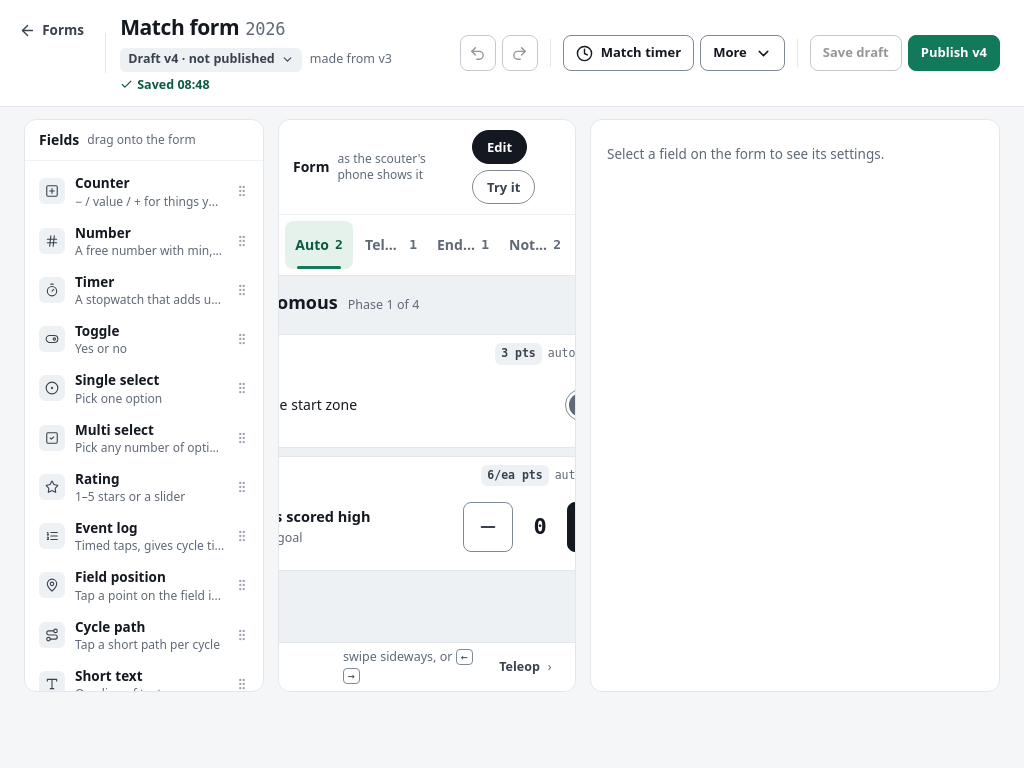
Test: Match timer (task 1.32, SPEC-FINAL 8.4) › adds only a phase not yet used, and holds Add once all four are used
Check: the element "Form" is shown, box [278,119,576,692]
Step 1. Click the button "Match timer" → x=628, y=53, box [563,35,694,71]
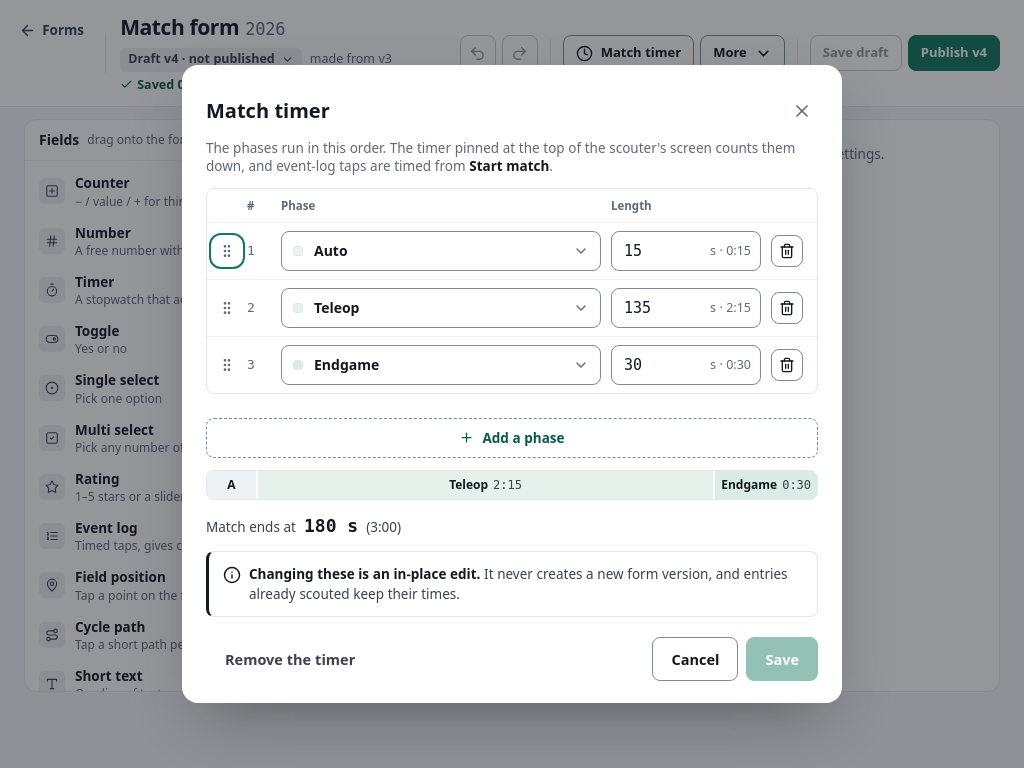
Step 2. Click the button "Add a phase" → x=512, y=438, box [206,418,818,458]
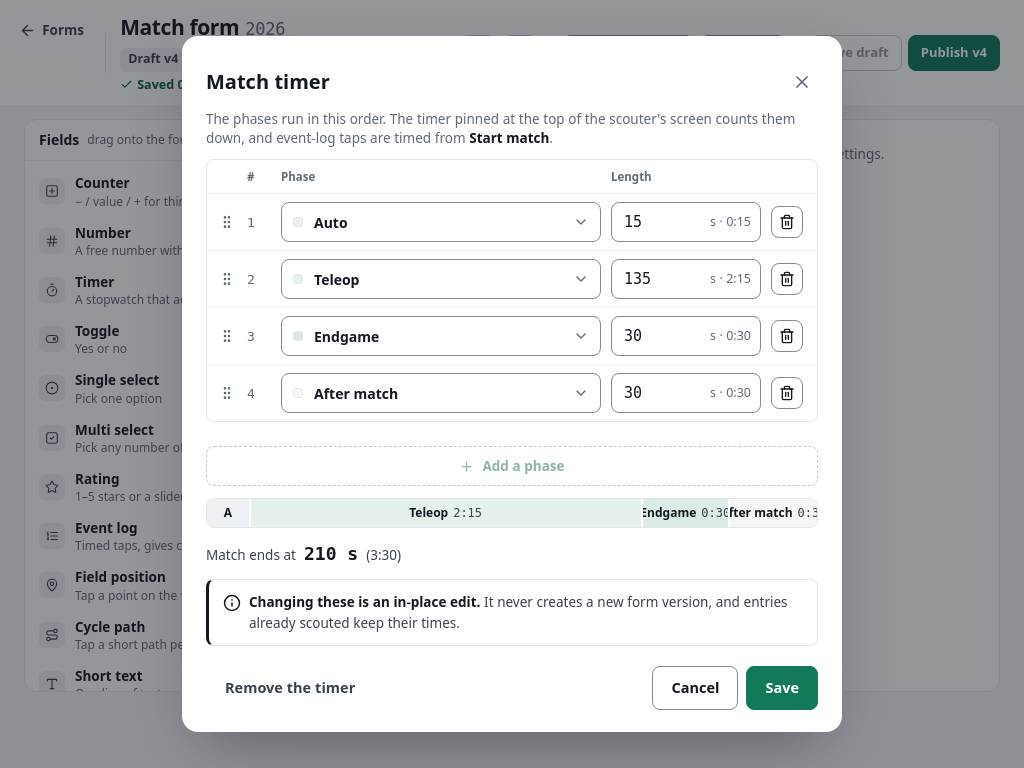
Check: the dropdown named "Phase 4" shows "After match", box [281,373,601,413]
Check: the text "Match ends at 210 s (3:30)" is shown, box [206,543,401,564]
Check: the button "Add a phase" is disabled, box [206,446,818,486]
Step 3. Click the button named "Remove Auto" → x=787, y=222, box [771,206,803,238]
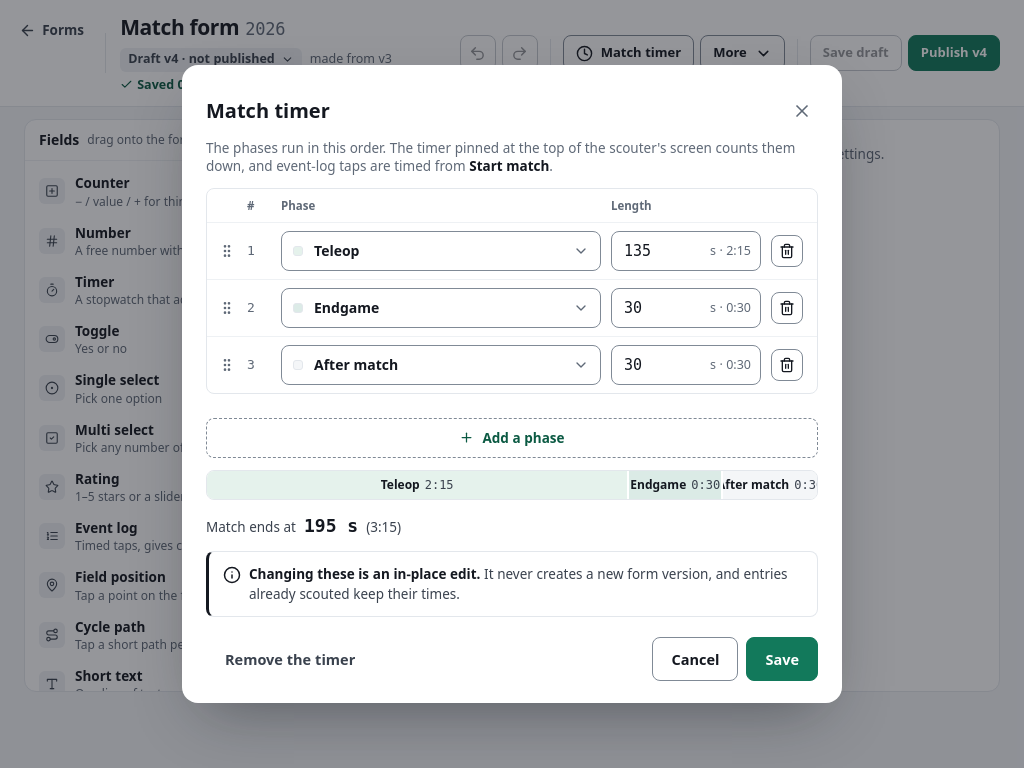
Check: the dropdown named "Phase 1" shows "Teleop", box [281,231,601,271]
Check: the number of dropdowns is 3, box [281,231,601,271]; [281,288,601,328]; [281,345,601,385]
Step 4. Click the button "Add a phase" → x=512, y=438, box [206,418,818,458]
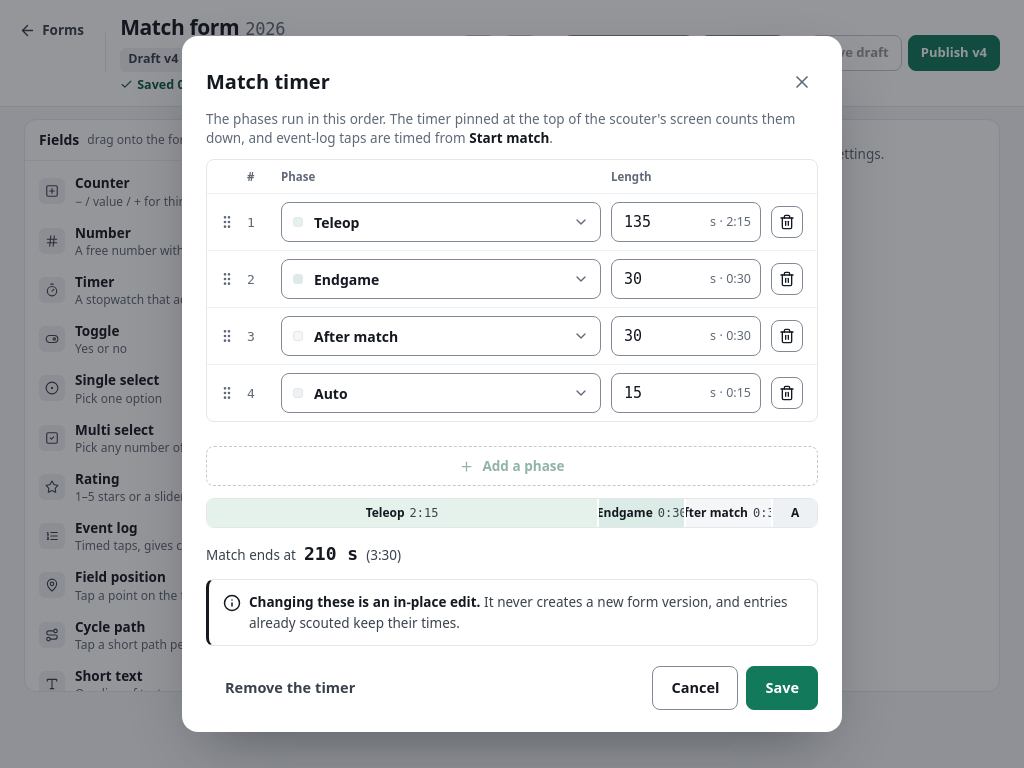
Check: the dropdown named "Phase 4" shows "Auto", box [281,373,601,413]
